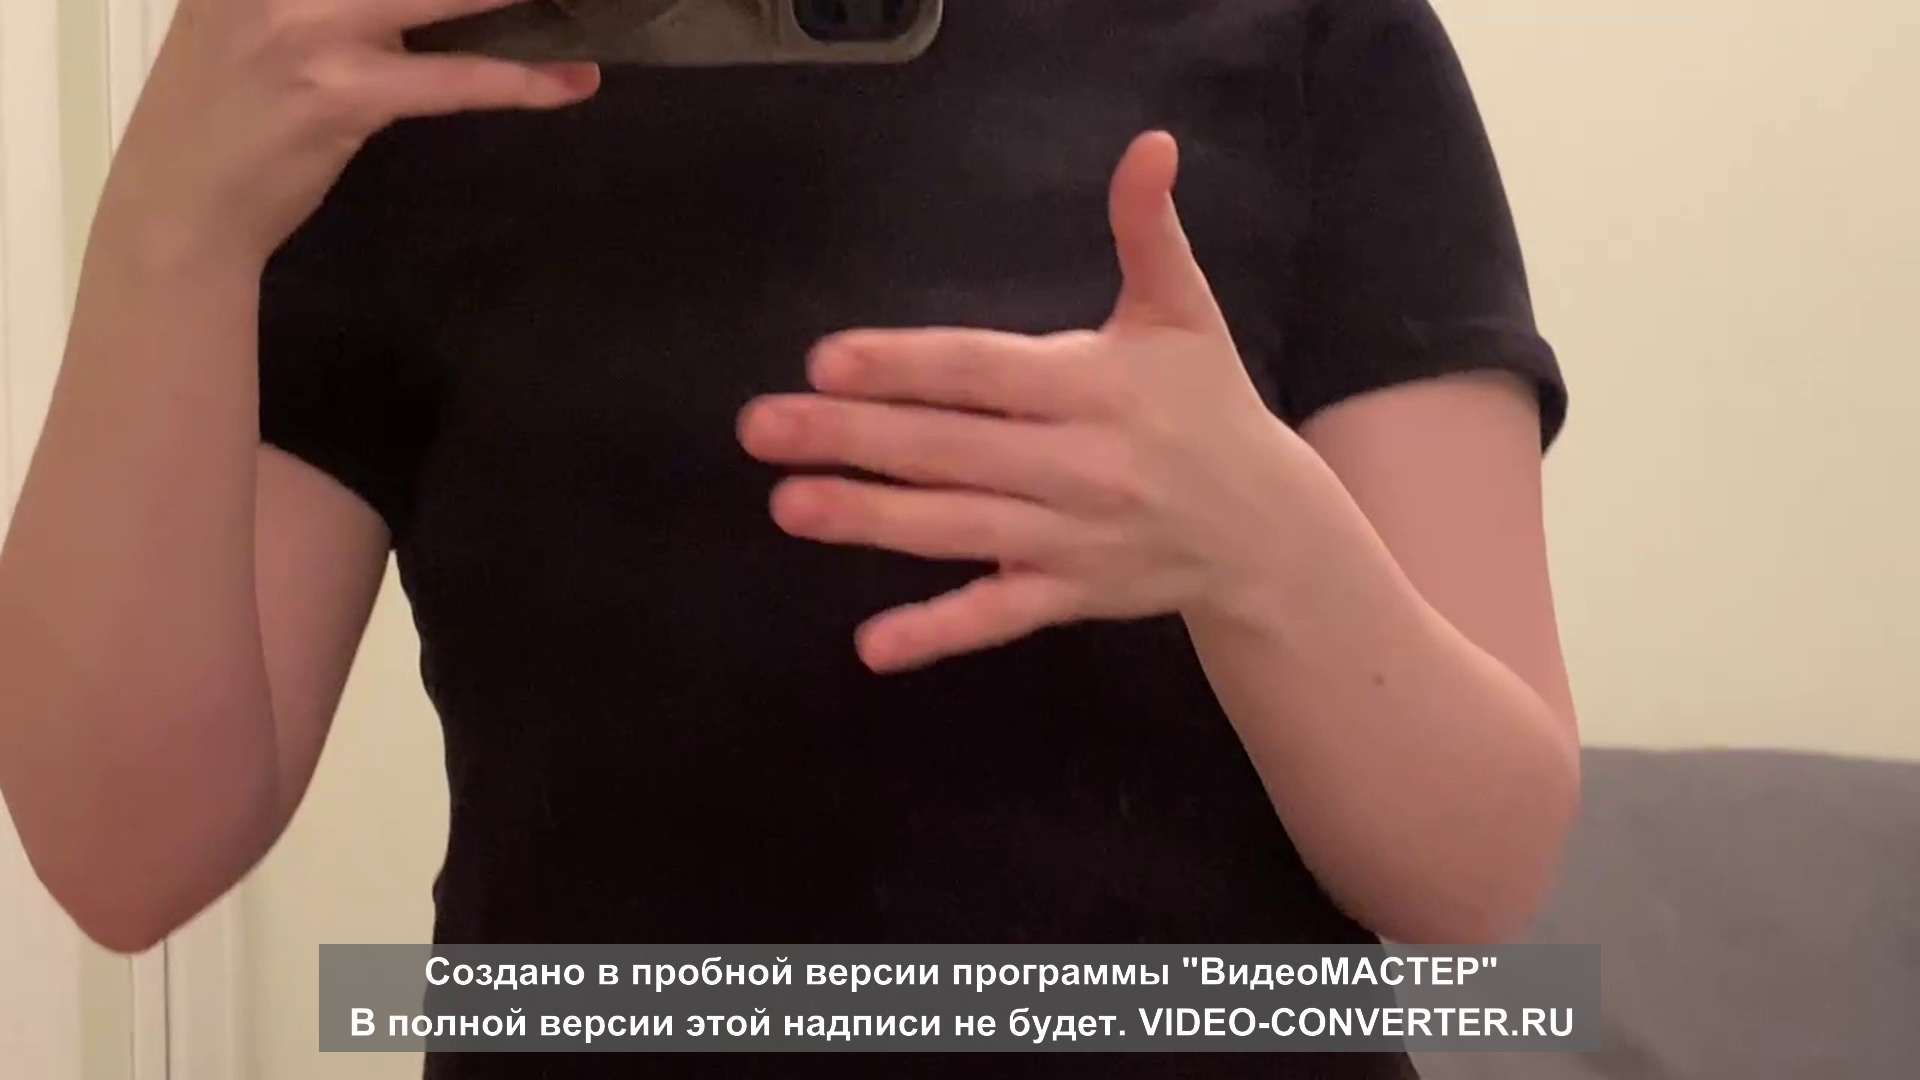Кисть: (731, 128, 1213, 675)
